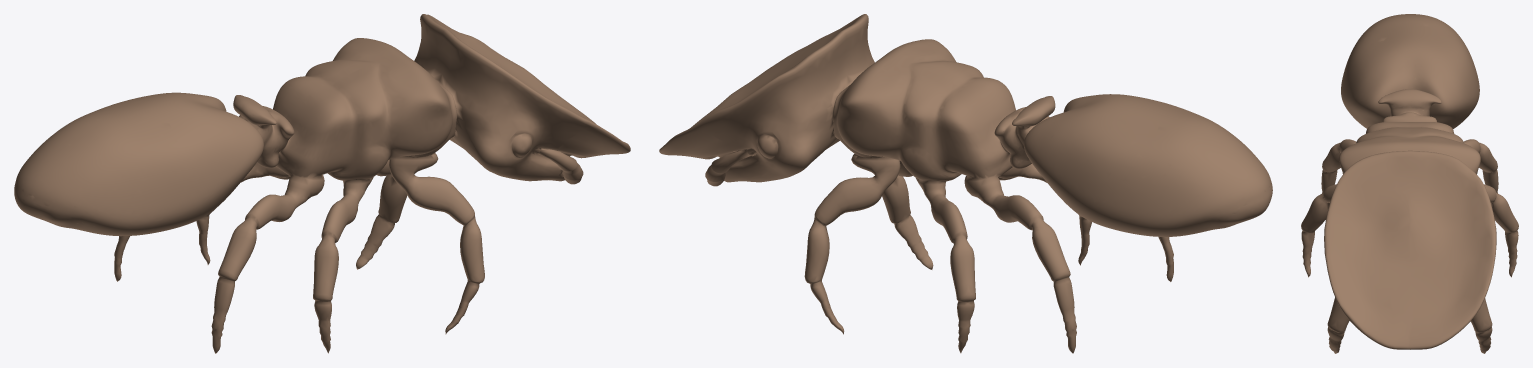
The model's file is cephalotes_soldier.glb.
3 views of the same model, side by side, from view 1: azimuth 30°, elevation 25°; view 2: azimuth 150°, elevation 25°; view 3: azimuth 270°, elevation 25° (orthographic). The views are drawn at different scales.
Parts seen in each view (by area): view 1: cephalotes; view 2: cephalotes; view 3: cephalotes.
Part boxes in pixels (<box>): cephalotes: <box>14,14,630,353</box>; cephalotes: <box>659,14,1272,353</box>; cephalotes: <box>1301,14,1518,353</box>.
Bounding box in the file's own units: 1 × 0.4221 × 0.3766.
